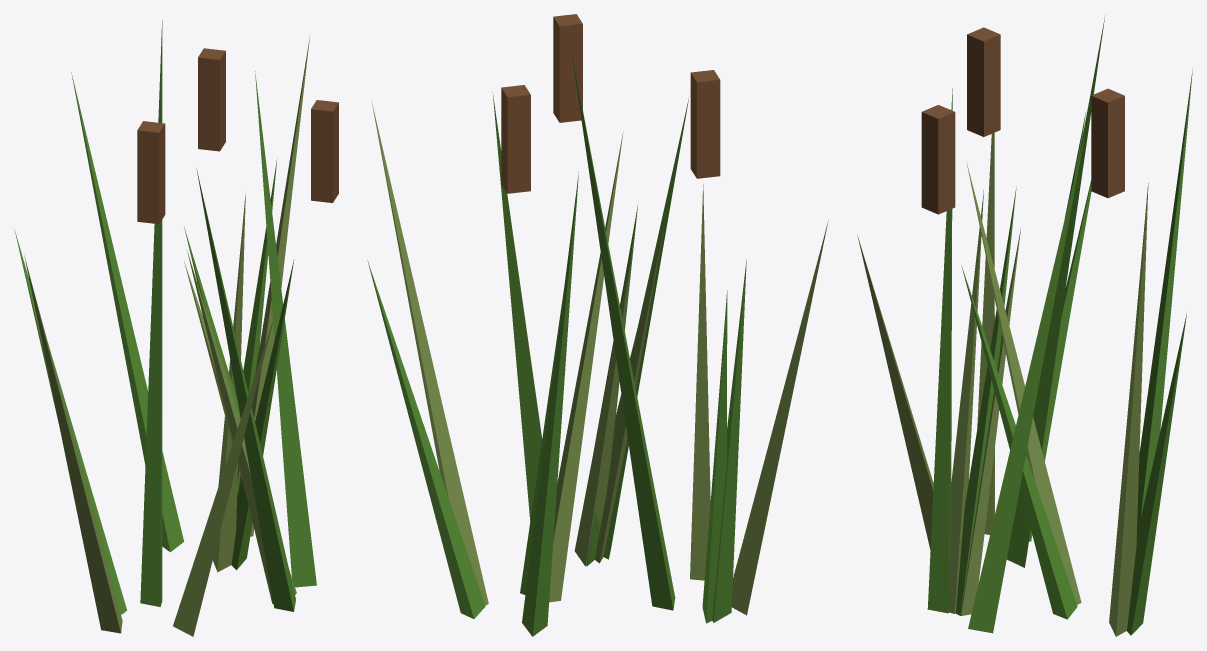
Rendered from Dorf_Schilf.fbx.
3 views of the same model, side by side, from view 1: azimuth 30°, elevation 25°; view 2: azimuth 150°, elevation 25°; view 3: azimuth 270°, elevation 25° (orthographic). The views are drawn at different scales.
Visible parts, largest first — view 1: Dorf_Schilf; view 2: Dorf_Schilf; view 3: Dorf_Schilf.
Part boxes in pixels (<box>): Dorf_Schilf: <box>14,20,338,636</box>; Dorf_Schilf: <box>367,14,828,636</box>; Dorf_Schilf: <box>857,15,1192,636</box>.
Bounding box in the file's own units: 1.03 × 1.5 × 0.7964.
